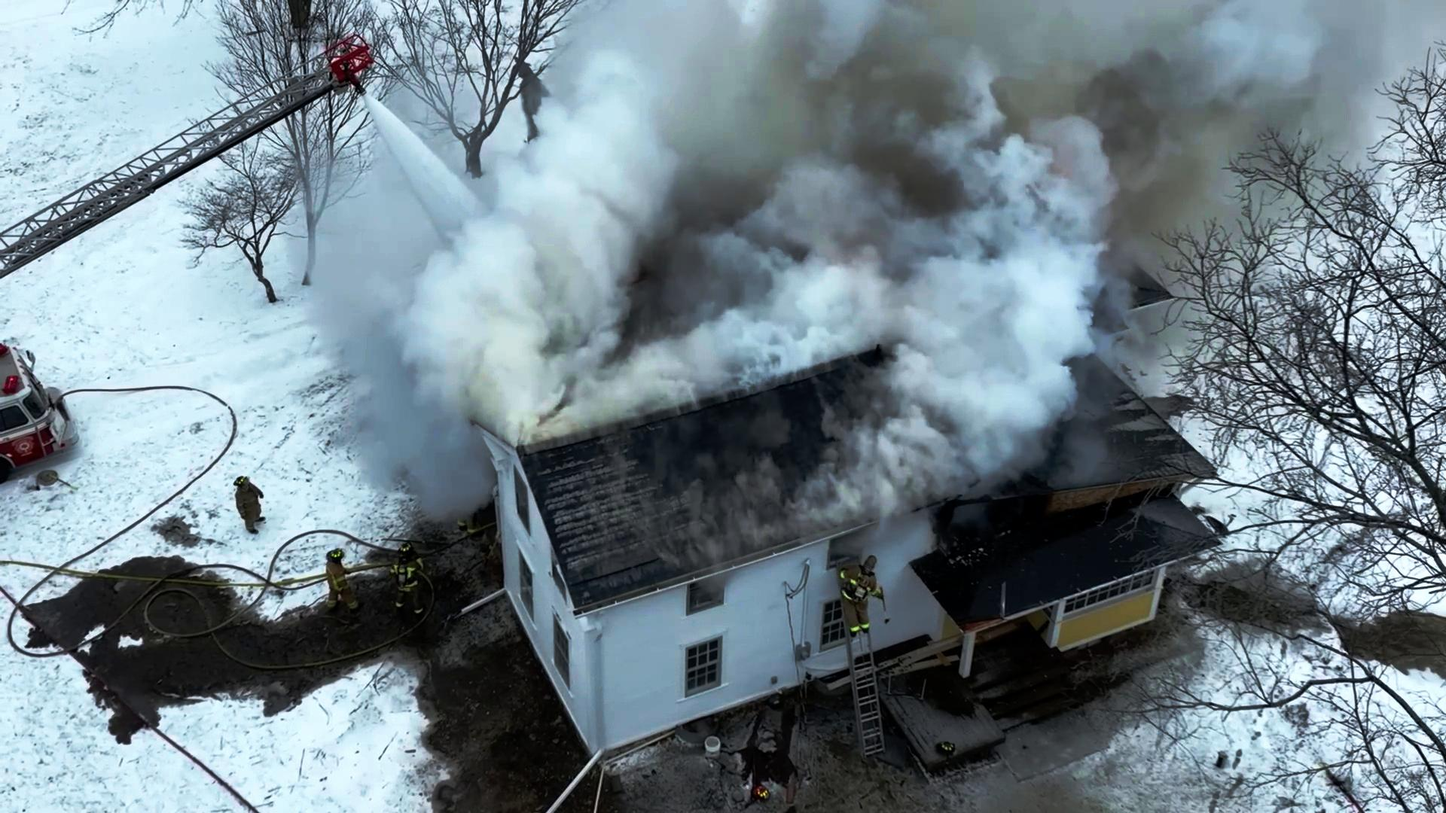smoke: (639, 0, 1231, 202), (529, 177, 965, 368)
